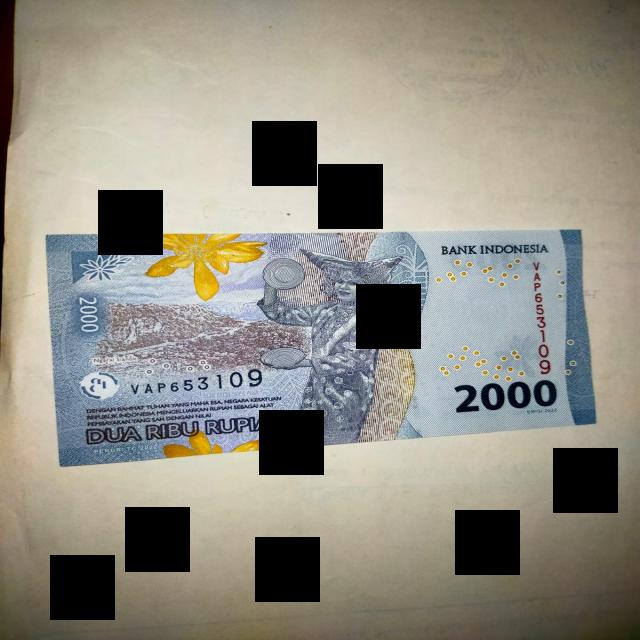dua ribu rupiah: (47, 230, 595, 466)
